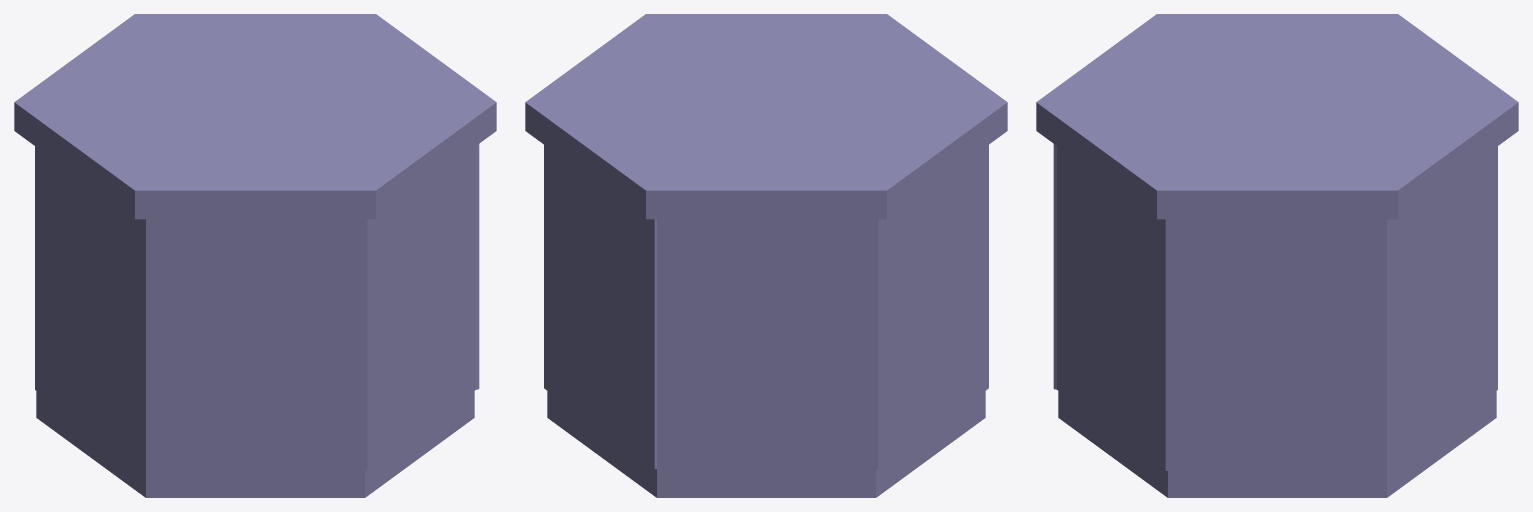
Rendered from HexHouse.fbx.
The picture shows the model from 3 angles, left to right: view 1: azimuth 30°, elevation 25°; view 2: azimuth 150°, elevation 25°; view 3: azimuth 270°, elevation 25°; orthographic projection.
Visible parts, largest first — view 1: wall (×4), hexagon_ring (×2); view 2: wall (×3), hexagon_ring (×2); view 3: wall (×4), hexagon_ring (×2).
Boxes of the visible parts, x1,y1,x2,y2 form: wall (×4): (35,144,479,470); hexagon_ring (×2): (14,14,496,497); wall (×3): (544,145,988,469); hexagon_ring (×2): (525,14,1007,497); wall (×4): (1053,144,1497,470); hexagon_ring (×2): (1036,14,1518,497).
Bounding box in the file's own units: 13.2 × 11 × 15.24.
